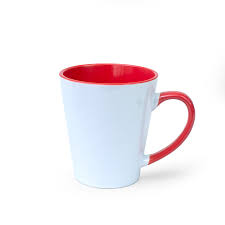mug: (51, 60, 194, 200)
